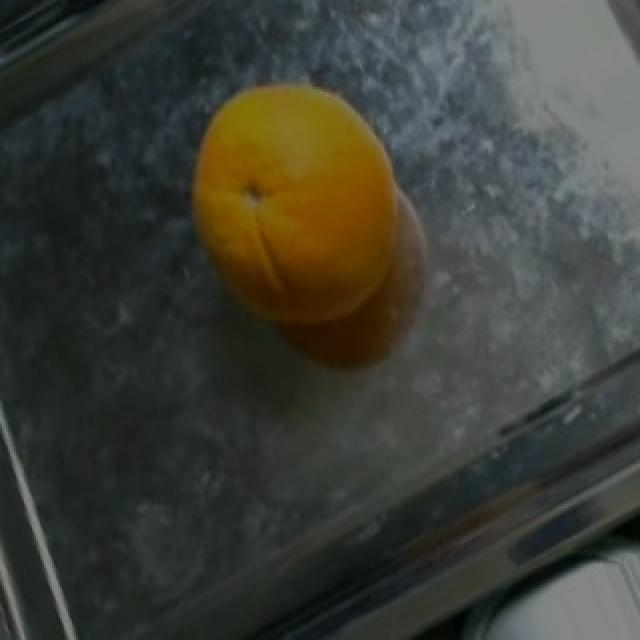Fruit: (172, 57, 438, 362)
